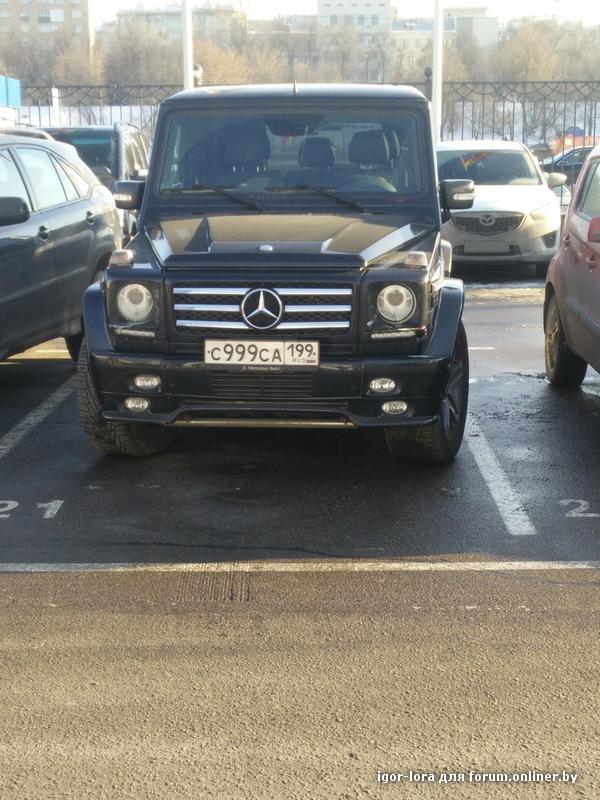number_plate: (199, 333, 326, 370)
